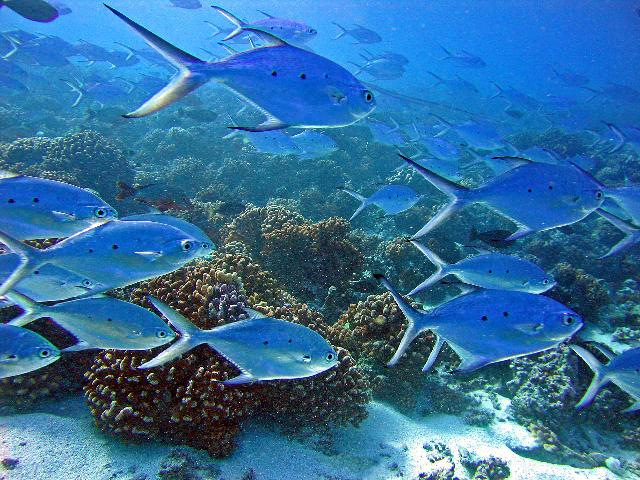Mulut: (568, 304, 604, 360), (583, 169, 617, 215), (182, 220, 208, 270), (319, 336, 346, 382), (360, 77, 384, 126), (540, 266, 574, 292)
Sirip Anal: (228, 109, 302, 155), (446, 343, 500, 394), (492, 210, 544, 250), (213, 363, 269, 395)
Sirip Dada: (131, 240, 175, 268)
Sirip Ekor: (94, 0, 206, 134), (390, 144, 466, 250), (366, 264, 432, 374), (130, 290, 198, 380), (398, 210, 466, 294), (1, 211, 52, 315)
Sirip Punggung: (224, 282, 286, 328), (225, 22, 292, 64), (488, 142, 544, 182)
